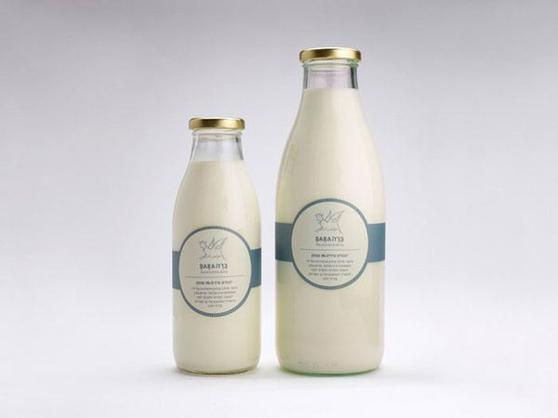milk: (277, 41, 384, 372), (169, 115, 265, 373)
